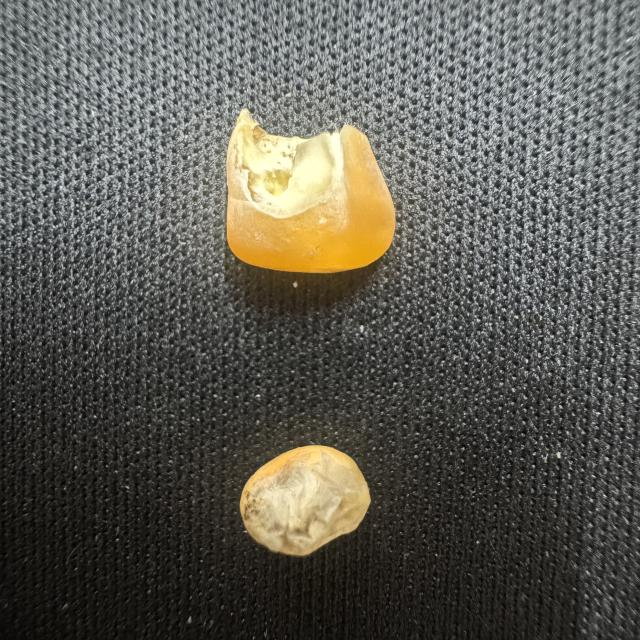Bad-Seed: (211, 106, 404, 280), (229, 436, 377, 562)
